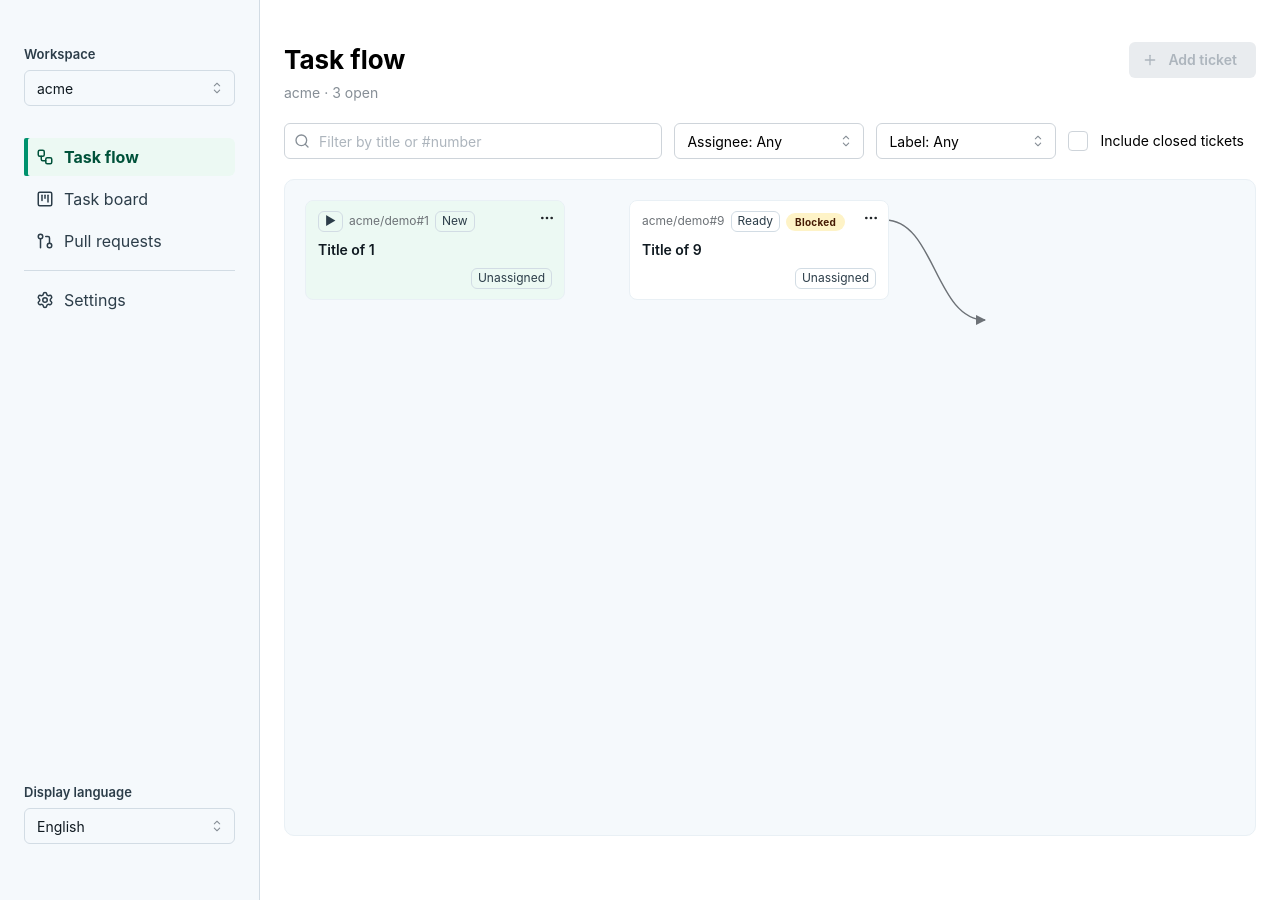
it: relations › makes an open parent's card the header of its frame, where its lines start
Click the button "▶" at (330, 222), box [318,211,343,232]
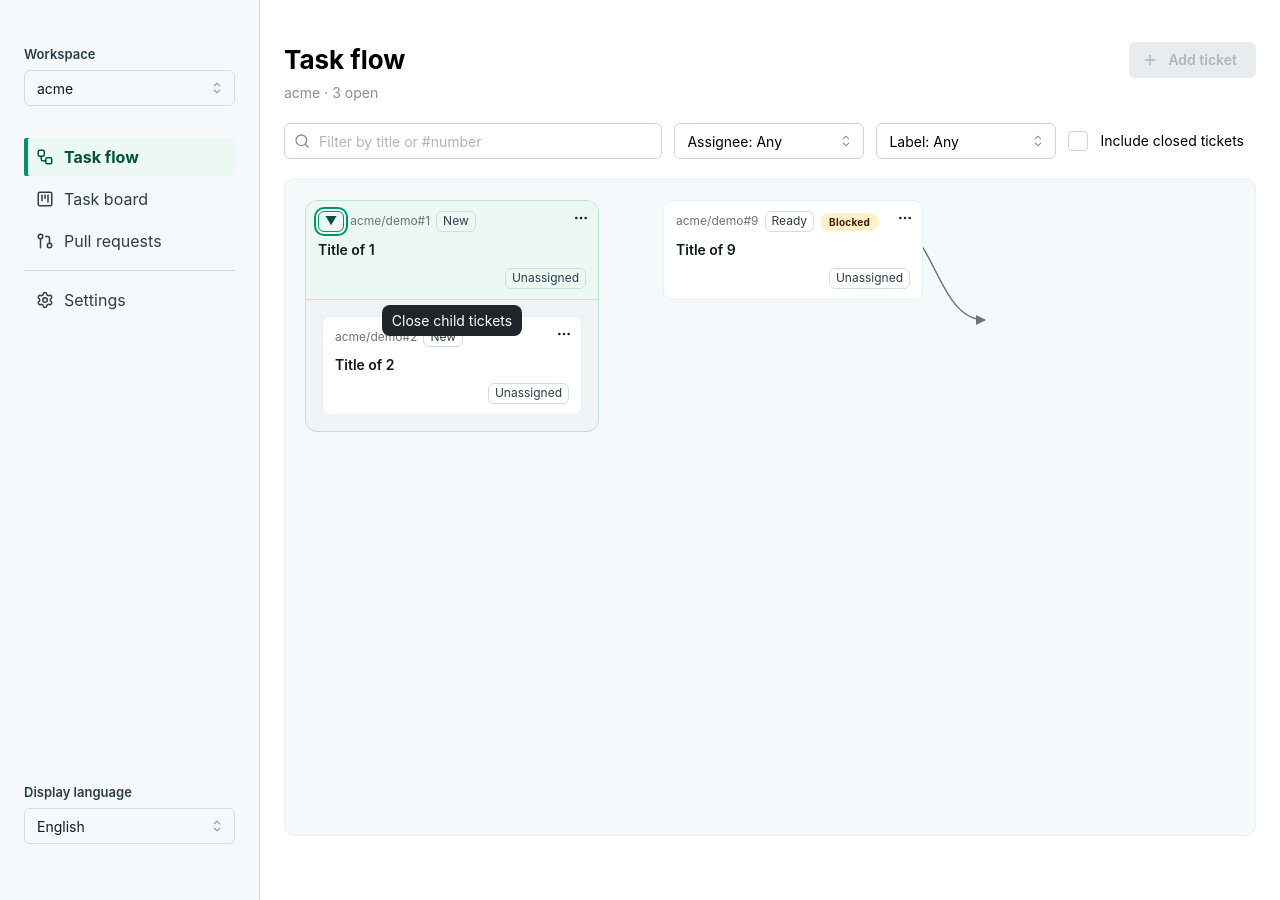
Now the element "acme/demo#2 New Title of 2 Unassigned" is shown, box [322,316,582,415]
